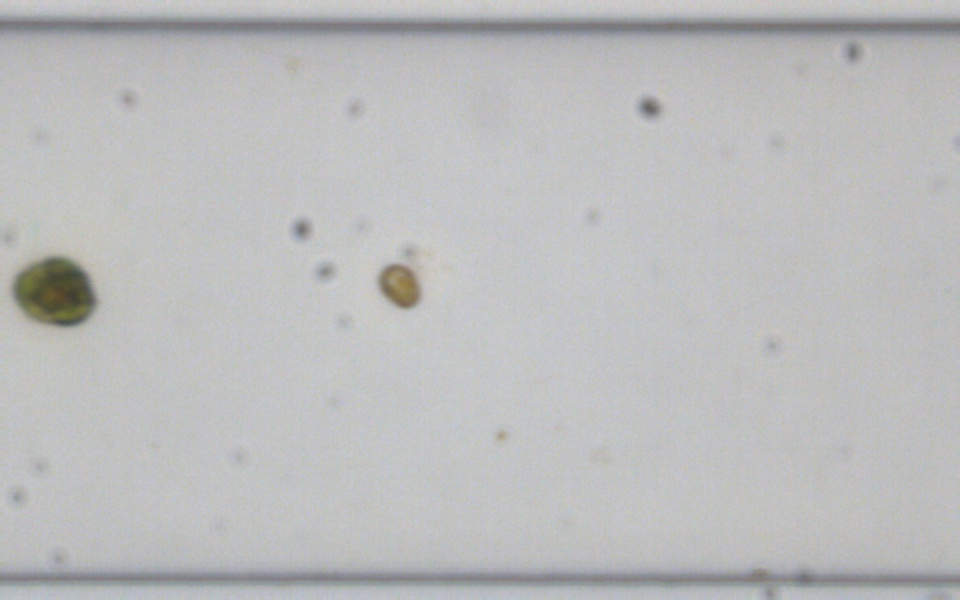Effrenium: (376, 261, 421, 308)
Haematococcus: (7, 252, 102, 329)
